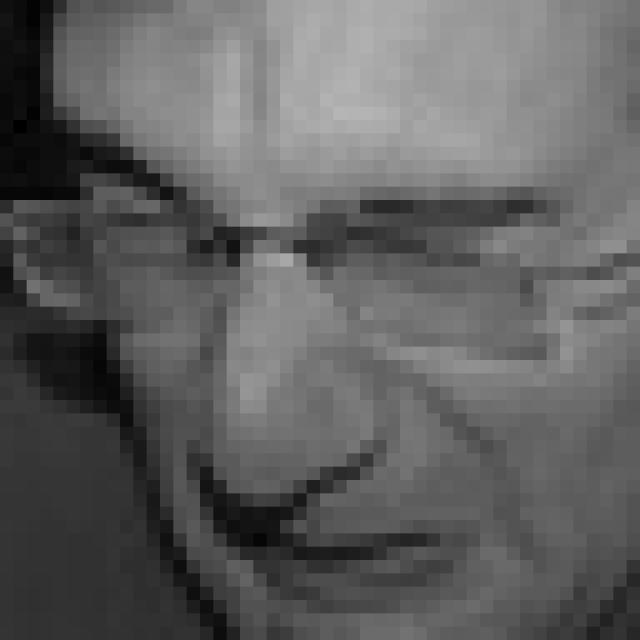disgust: (77, 134, 558, 619)
